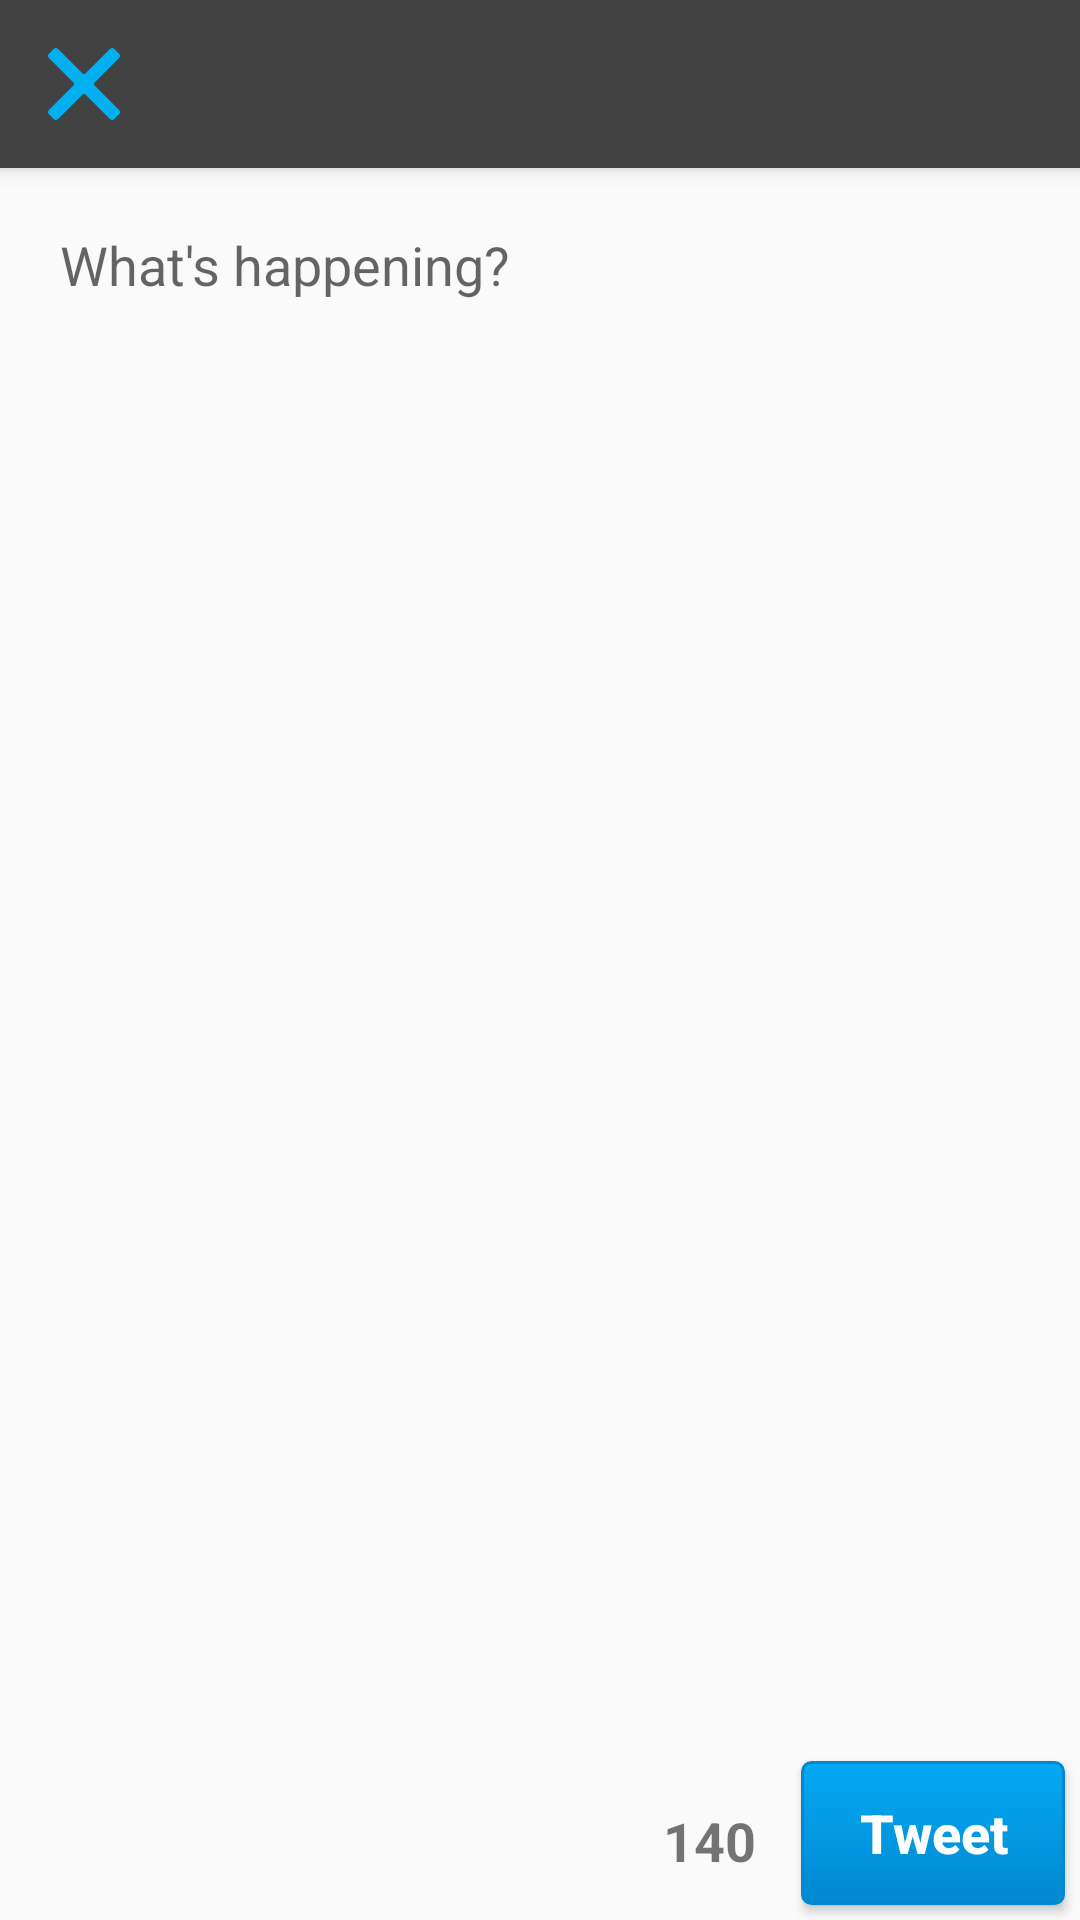

Where to tap for icons on this 1080*1920 app screen, as point (x, y):
cancel: point (84, 84)
